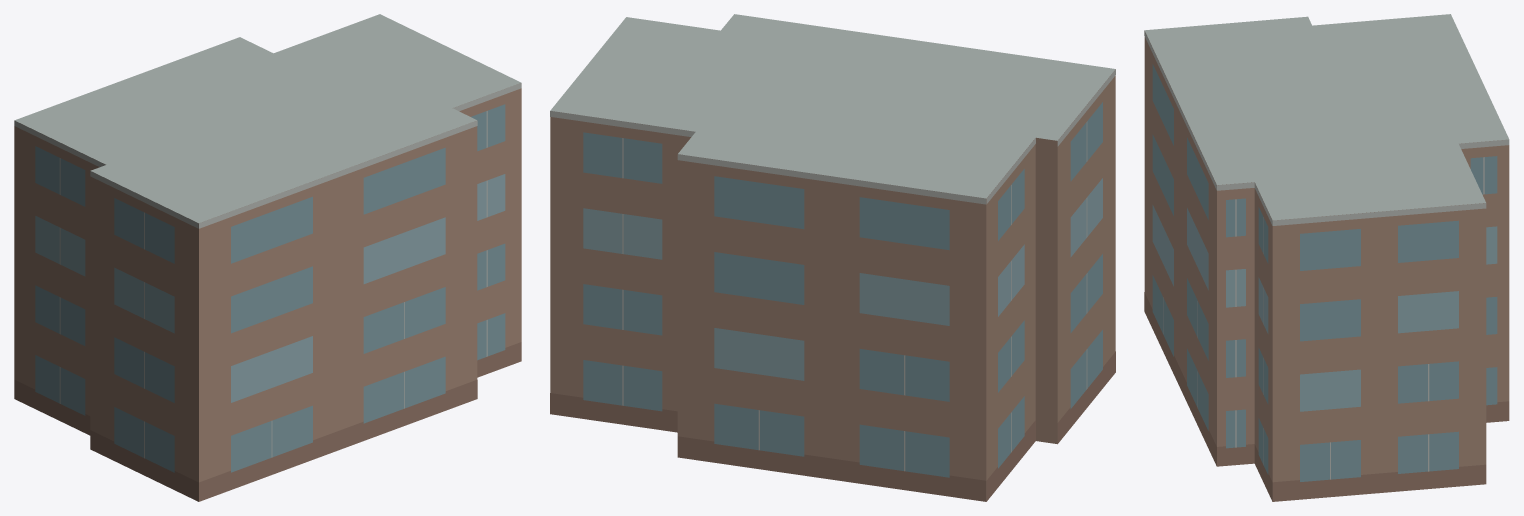
Rendered from survey-upis-32770174.glb.
3 views of the same model, side by side, from view 1: azimuth 30°, elevation 25°; view 2: azimuth 150°, elevation 25°; view 3: azimuth 270°, elevation 25° (orthographic). The views are drawn at different scales.
Parts seen in each view (by area): view 1: survey-upis-32770174.tmp; view 2: survey-upis-32770174.tmp; view 3: survey-upis-32770174.tmp.
Boxes of the visible parts, box(x1,y1,x2,y2) form: survey-upis-32770174.tmp: box(14, 14, 521, 501); survey-upis-32770174.tmp: box(550, 14, 1115, 501); survey-upis-32770174.tmp: box(1144, 14, 1509, 501).
Bounding box in the file's own units: 19.21 × 12.2 × 14.35.
